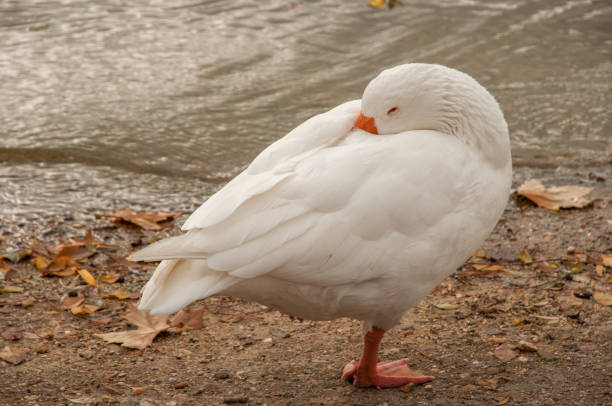goose: (120, 55, 516, 392)
